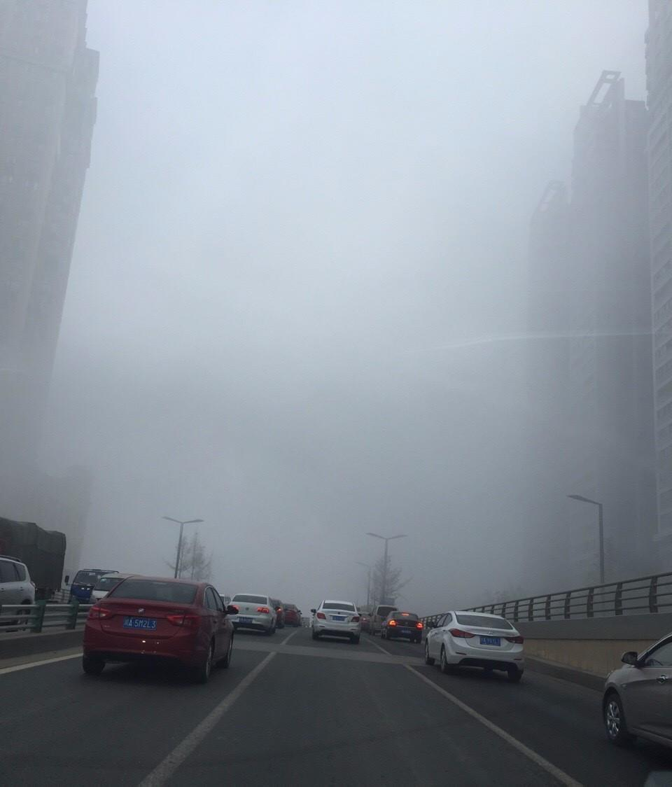bus: (1, 516, 67, 620), (63, 568, 144, 620)
car: (81, 574, 241, 682), (600, 631, 672, 751), (423, 610, 525, 684), (87, 572, 151, 624), (1, 554, 36, 633), (223, 593, 281, 636), (310, 599, 363, 645), (379, 610, 424, 645), (248, 599, 289, 629), (367, 605, 400, 639), (266, 603, 302, 629), (353, 611, 375, 632)
